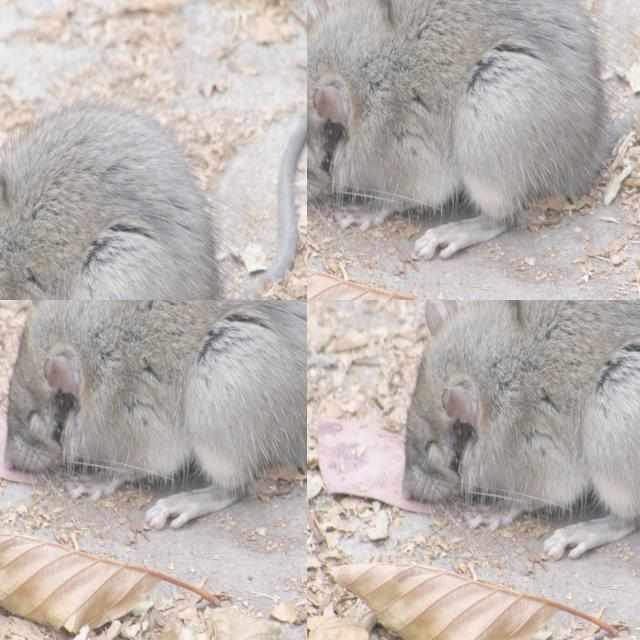rat: (398, 300, 640, 554), (268, 7, 307, 67)
